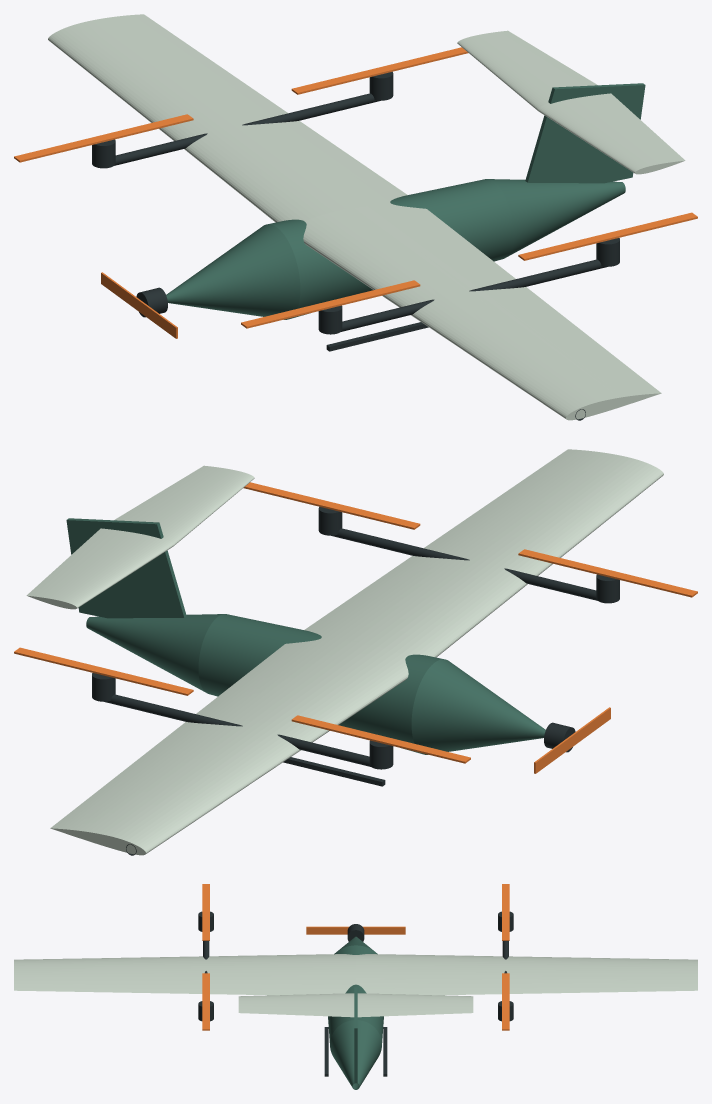
3 views of the same model, one above another, from view 1: azimuth 30°, elevation 25°; view 2: azimuth 150°, elevation 25°; view 3: azimuth 270°, elevation 25° (orthographic). The views are drawn at different scales.
Parts seen in each view (by area): view 1: wing-1, wing1, fuselage, tail-1, fin, tail1, boom-1, boom1, prop_1_130.0, prop_-1_130.0, prop_-1_780.0, prop_1_780.0 (+5 smaller); view 2: wing1, wing-1, fuselage, tail1, fin, tail-1, boom1, boom-1, prop_-1_130.0, prop_1_130.0, prop_1_780.0, prop_-1_780.0 (+5 smaller); view 3: wing-1, wing1, fuselage, tail-1, tail1, cruise_prop, prop_-1_780.0, prop_1_780.0, prop_-1_130.0, prop_1_130.0, fin.
Part boxes in pixels (box(x1,y1,x2,y2)): wing-1: box(303, 203, 661, 420); wing1: box(48, 14, 407, 222); fuselage: box(166, 179, 625, 319); tail-1: box(537, 93, 685, 174); fin: box(525, 83, 645, 183); tail1: box(457, 30, 597, 110); boom-1: box(341, 259, 607, 331); boom1: box(114, 93, 380, 165); prop_1_130.0: box(14, 114, 193, 162); prop_-1_130.0: box(241, 280, 420, 328); prop_-1_780.0: box(518, 212, 697, 260); prop_1_780.0: box(291, 47, 468, 94); wing1: box(50, 638, 408, 855); wing-1: box(304, 449, 663, 657); fuselage: box(86, 614, 545, 754); tail1: box(26, 528, 174, 609); fin: box(66, 518, 186, 618); tail-1: box(114, 465, 254, 545); boom1: box(104, 694, 370, 766); boom-1: box(331, 528, 597, 600); prop_-1_130.0: box(518, 549, 697, 597); prop_1_130.0: box(291, 715, 470, 763); prop_1_780.0: box(14, 647, 193, 695); prop_-1_780.0: box(243, 482, 420, 529); wing-1: box(14, 954, 355, 995); wing1: box(356, 954, 697, 995); fuselage: box(328, 936, 383, 1089); tail-1: box(238, 993, 354, 1017); tail1: box(357, 993, 473, 1017); cruise_prop: box(306, 926, 405, 934); prop_-1_780.0: box(202, 973, 209, 1030); prop_1_780.0: box(502, 973, 509, 1030); prop_-1_130.0: box(202, 884, 209, 940); prop_1_130.0: box(502, 884, 509, 940); fin: box(354, 987, 357, 1083).
Size of the model in its own units: 1203 by 415 by 2100.
